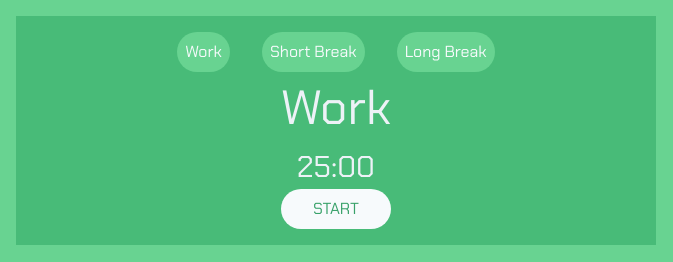
Timer › can change mode
Step 1. Click the button with class "tab-button" showing "Short Break" → (313, 52), box 262,32 -> 365,72
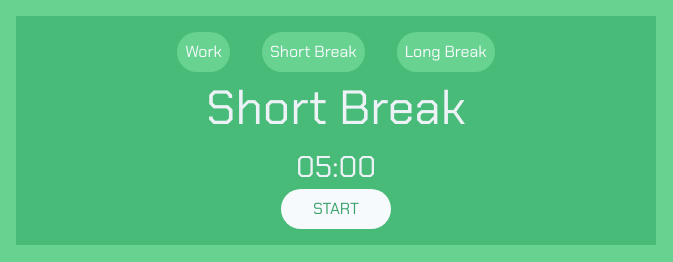
Check: the heading with class "time" reads "05:00", box 296,146 -> 376,186
Step 2. Click the button with class "tab-button" showing "Long Break" → (446, 52), box 397,32 -> 495,72
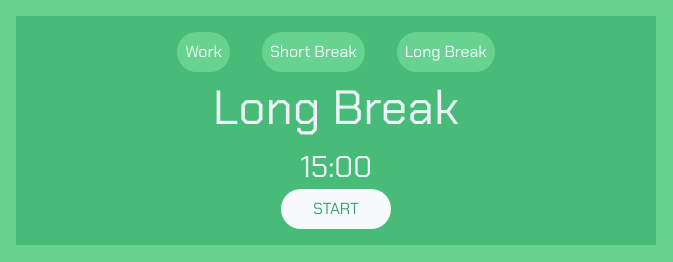
Check: the heading with class "time" reads "15:00", box 300,146 -> 372,186
Step 3. Click the button with class "tab-button" showing "Work" → (204, 52), box 177,32 -> 230,72
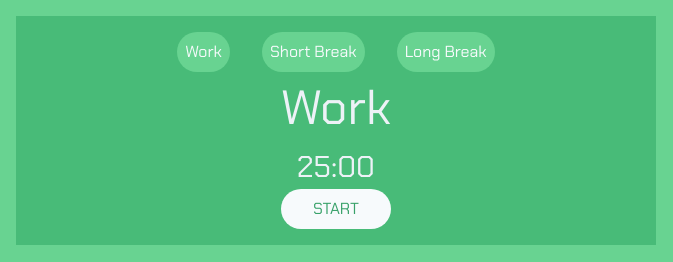
Check: the heading with class "time" reads "25:00", box 297,146 -> 375,186
